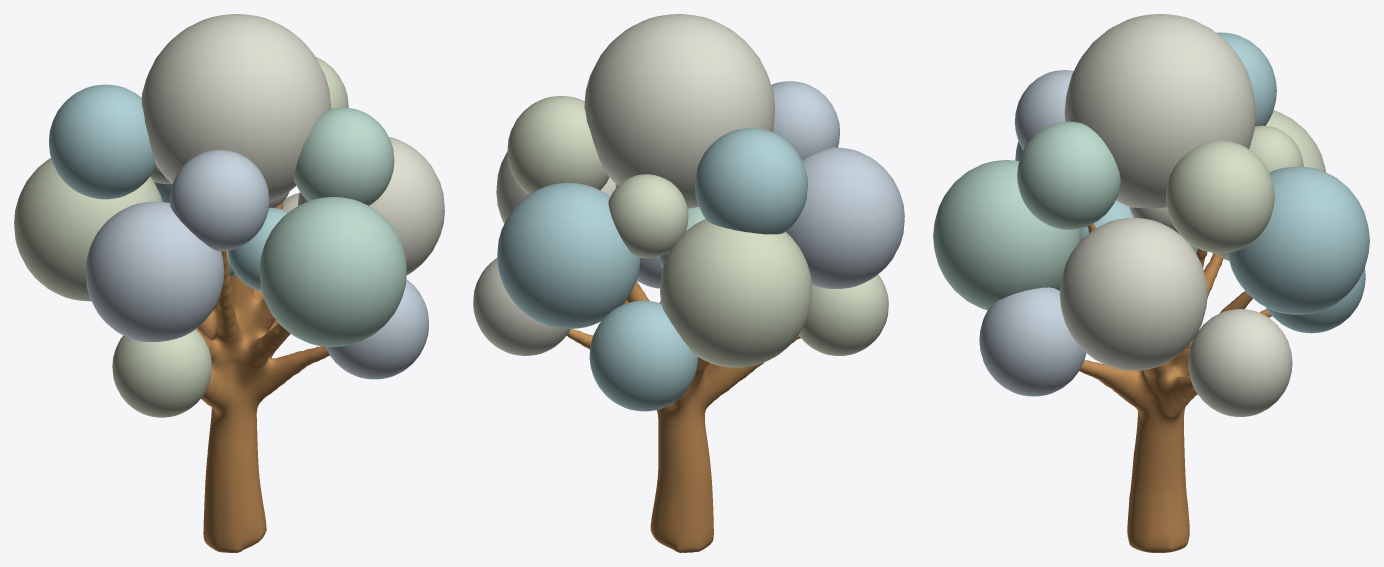
File: oak-large.glb
3 renders of one model, left to right at view 1: azimuth 30°, elevation 25°; view 2: azimuth 150°, elevation 25°; view 3: azimuth 270°, elevation 25°, orthographic.
Parts seen in each view (by area): view 1: Tree · independent spherical crown, Tree · visible rounded forks; view 2: Tree · independent spherical crown, Tree · visible rounded forks; view 3: Tree · independent spherical crown, Tree · visible rounded forks.
Part boxes in pixels (x1,y1,x2,y2): Tree · independent spherical crown: (14, 14, 444, 417); Tree · visible rounded forks: (196, 201, 329, 552); Tree · independent spherical crown: (473, 14, 904, 411); Tree · visible rounded forks: (566, 268, 800, 552); Tree · independent spherical crown: (933, 14, 1369, 416); Tree · visible rounded forks: (1059, 223, 1271, 552).
Bounding box in the file's own units: 1.88 × 2.56 × 1.92.
